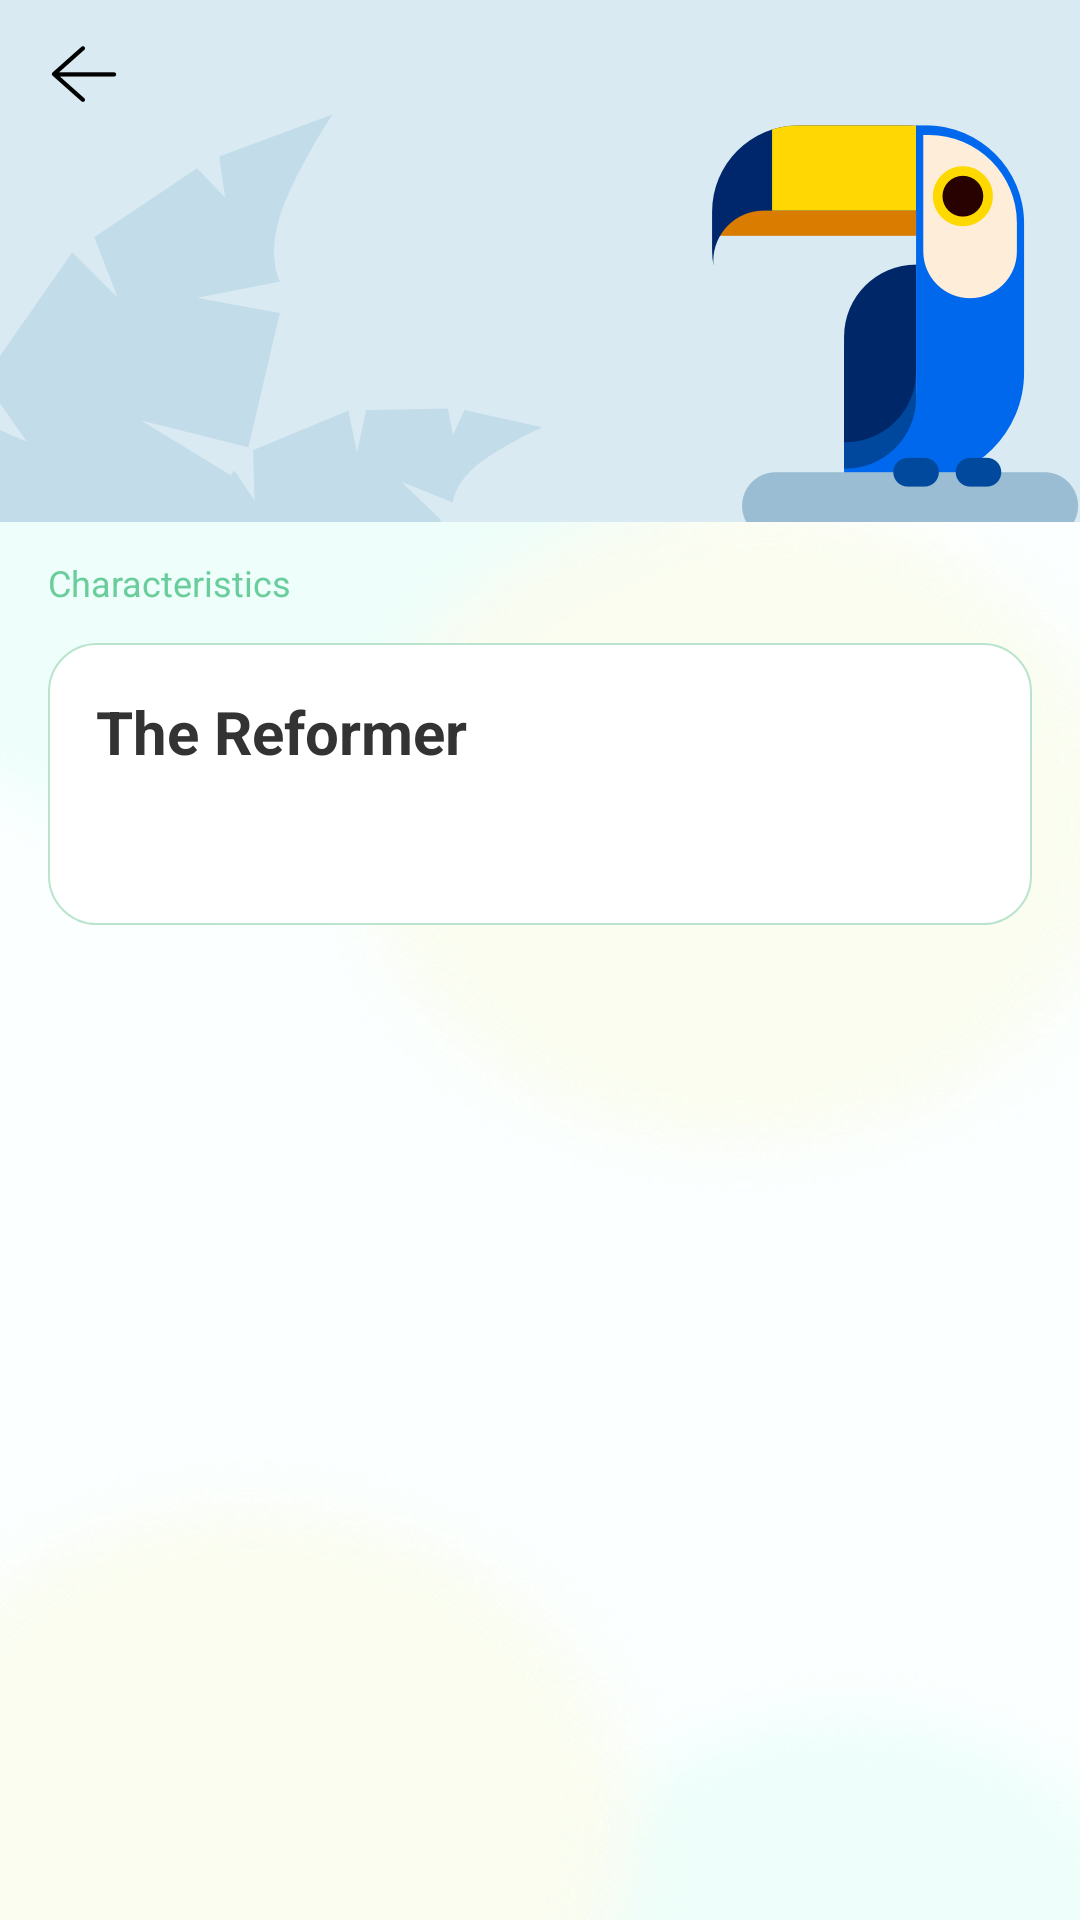

Screen size 1080*1920. Icon name, then its box in pixels as (x1,y1,x2,y2):
back: (52,46,117,102)
